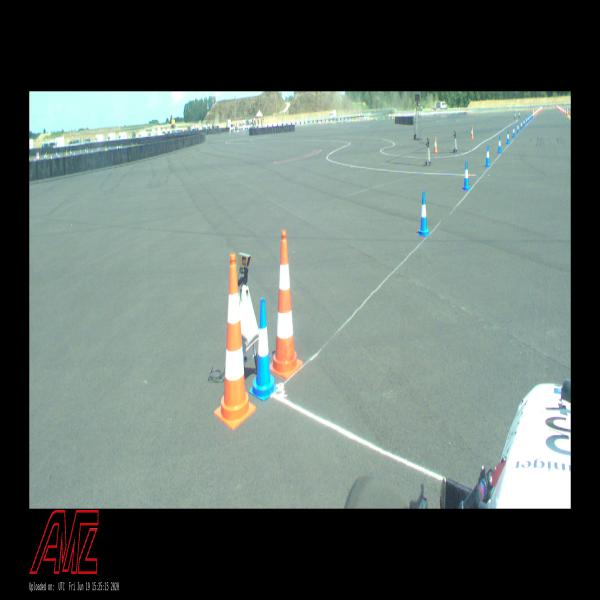blue_cone: (249, 297, 278, 401), (417, 191, 430, 236), (463, 161, 470, 191), (485, 145, 491, 167), (498, 136, 502, 153), (506, 131, 510, 144), (512, 126, 515, 137), (517, 123, 519, 133), (520, 120, 522, 130), (523, 118, 525, 127), (526, 117, 528, 124), (529, 114, 531, 121), (527, 116, 529, 122)
large_orange_cone: (214, 253, 256, 430), (270, 230, 302, 379)
orange_cone: (434, 137, 438, 153), (470, 127, 473, 138)
